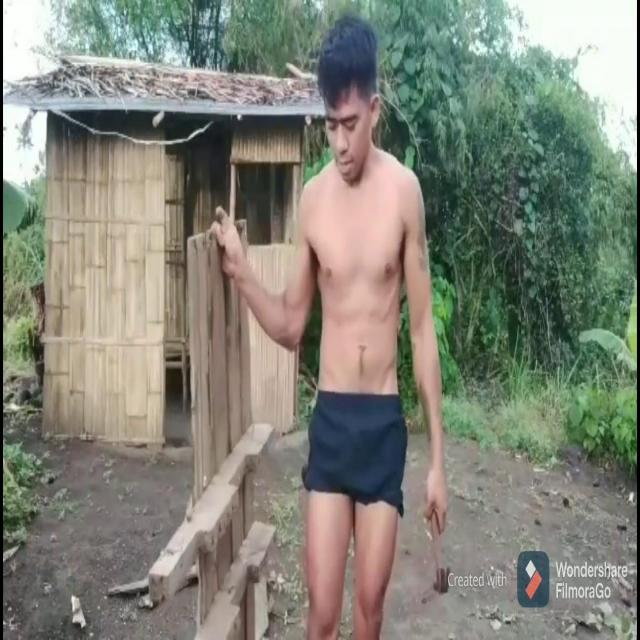hammer: (430, 509, 450, 594)
